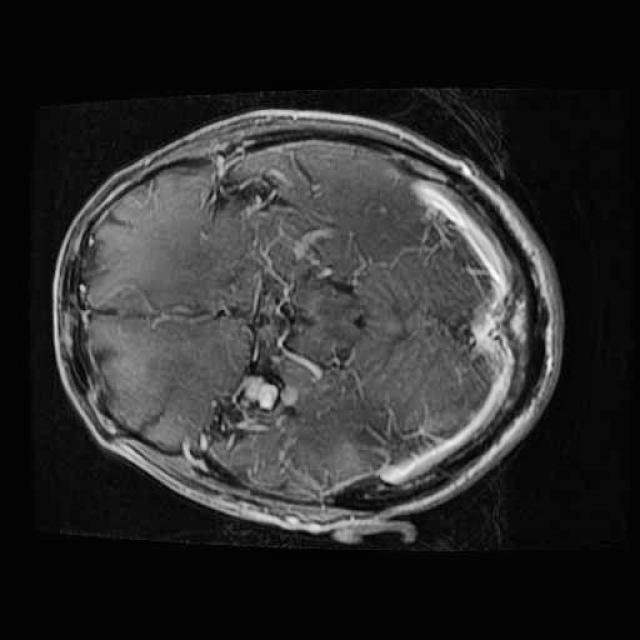Tumor: (228, 366, 303, 434)
